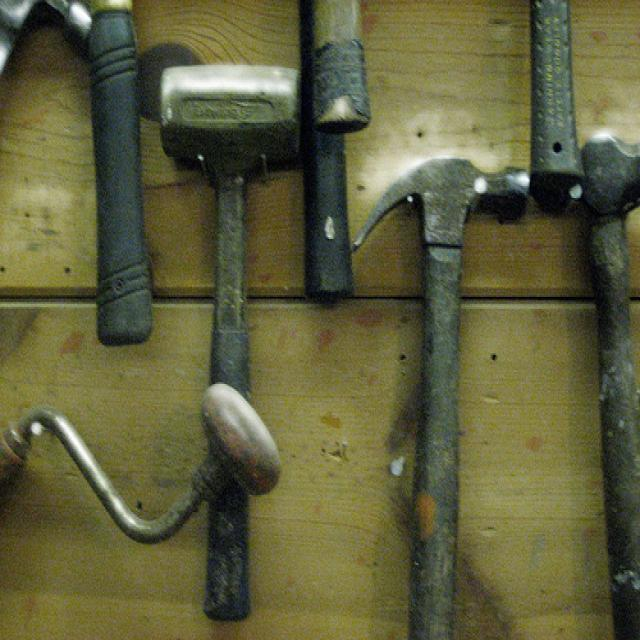hammer: (150, 48, 308, 640), (350, 148, 534, 640), (530, 124, 640, 638)
